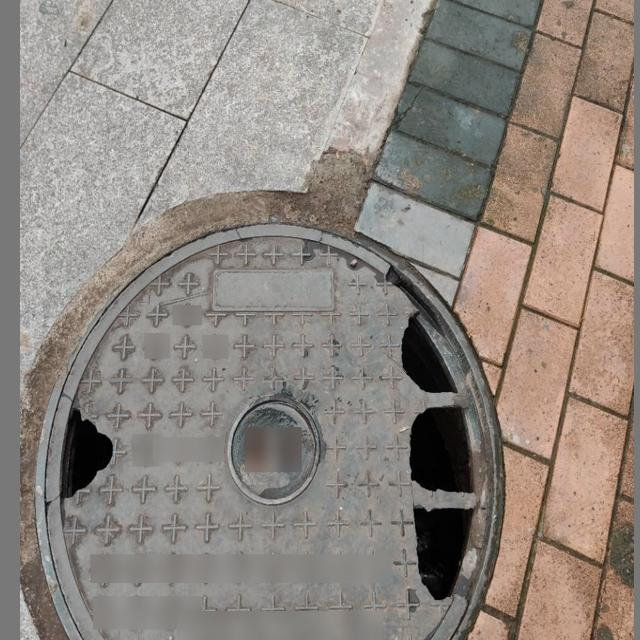broke: (43, 257, 491, 640)
